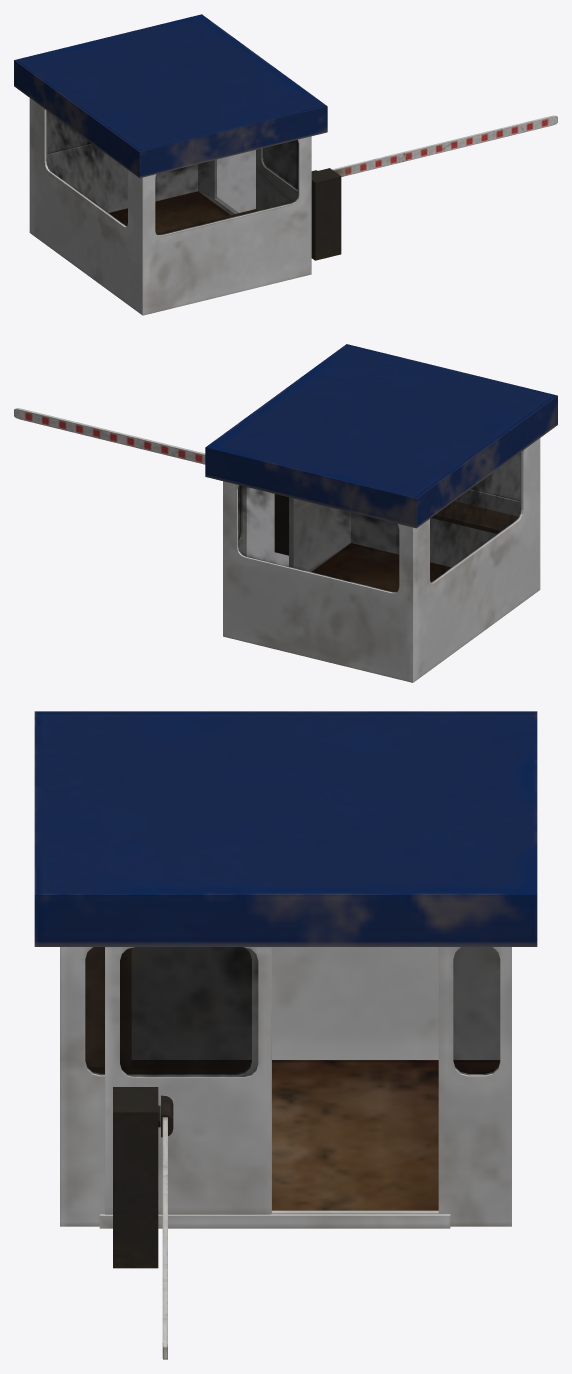
File: guard-booth.glb
3 renders of one model, top to bottom at view 1: azimuth 30°, elevation 25°; view 2: azimuth 150°, elevation 25°; view 3: azimuth 270°, elevation 25°, orthographic. The views are drawn at different scales.
Parts seen in each view (by area): view 1: BoothMain, Cube; view 2: BoothMain, Cube; view 3: BoothMain, Cube.
Boxes of the visible parts, x1=… form: BoothMain: x1=14, y1=14, x2=327, y2=315; Cube: x1=311, y1=115, x2=557, y2=260; BoothMain: x1=205, y1=344, x2=557, y2=682; Cube: x1=14, y1=408, x2=288, y2=555; BoothMain: x1=34, y1=711, x2=537, y2=1228; Cube: x1=113, y1=1087, x2=173, y2=1359.
Size of the model in its own units: 3 by 1.09 by 1.45.
2 materials, 2 textured.
